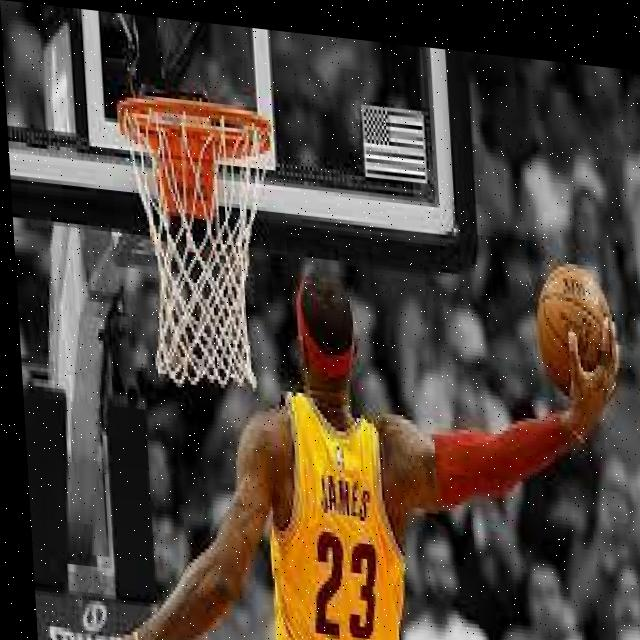basketball: (533, 254, 621, 415)
hoop: (116, 93, 285, 399)
